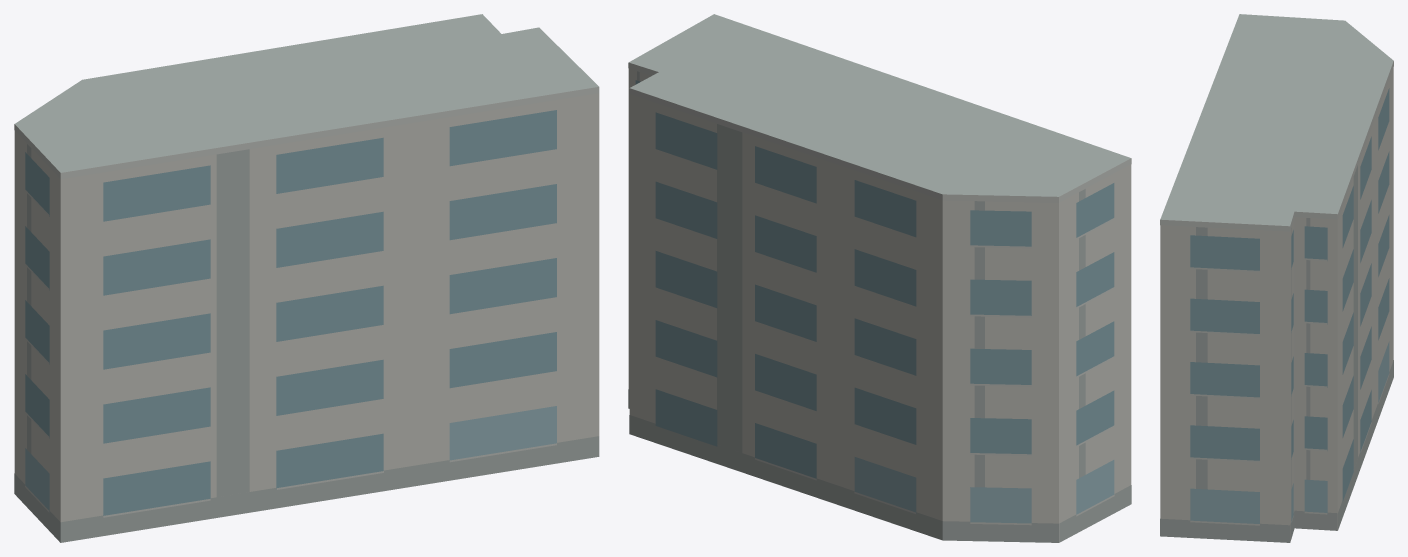
Rendered from survey-upis-33011499.glb.
The picture shows the model from 3 angles, left to right: view 1: azimuth 30°, elevation 25°; view 2: azimuth 150°, elevation 25°; view 3: azimuth 270°, elevation 25°; orthographic projection. The views are drawn at different scales.
Visible parts, largest first — view 1: survey-upis-33011499.tmp; view 2: survey-upis-33011499.tmp; view 3: survey-upis-33011499.tmp.
Part boxes in pixels (x1,y1,x2,y2): survey-upis-33011499.tmp: (14, 14, 599, 542); survey-upis-33011499.tmp: (628, 14, 1131, 542); survey-upis-33011499.tmp: (1160, 14, 1393, 542).
Size of the model in its own units: 20.06 by 13.95 by 9.34.
